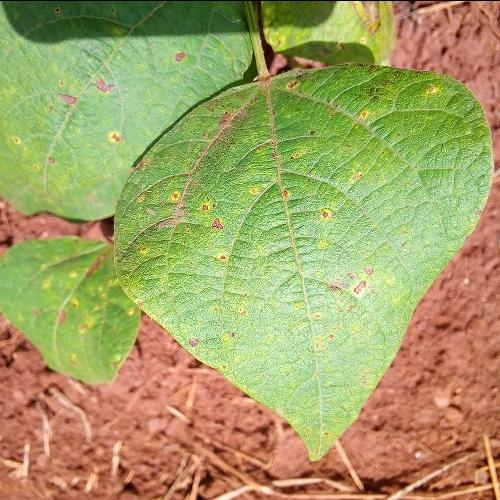hawar: (142, 88, 275, 292), (16, 236, 112, 354), (42, 64, 126, 174), (174, 302, 275, 381), (293, 56, 415, 112), (316, 256, 395, 310), (152, 33, 206, 84), (306, 186, 345, 242)
